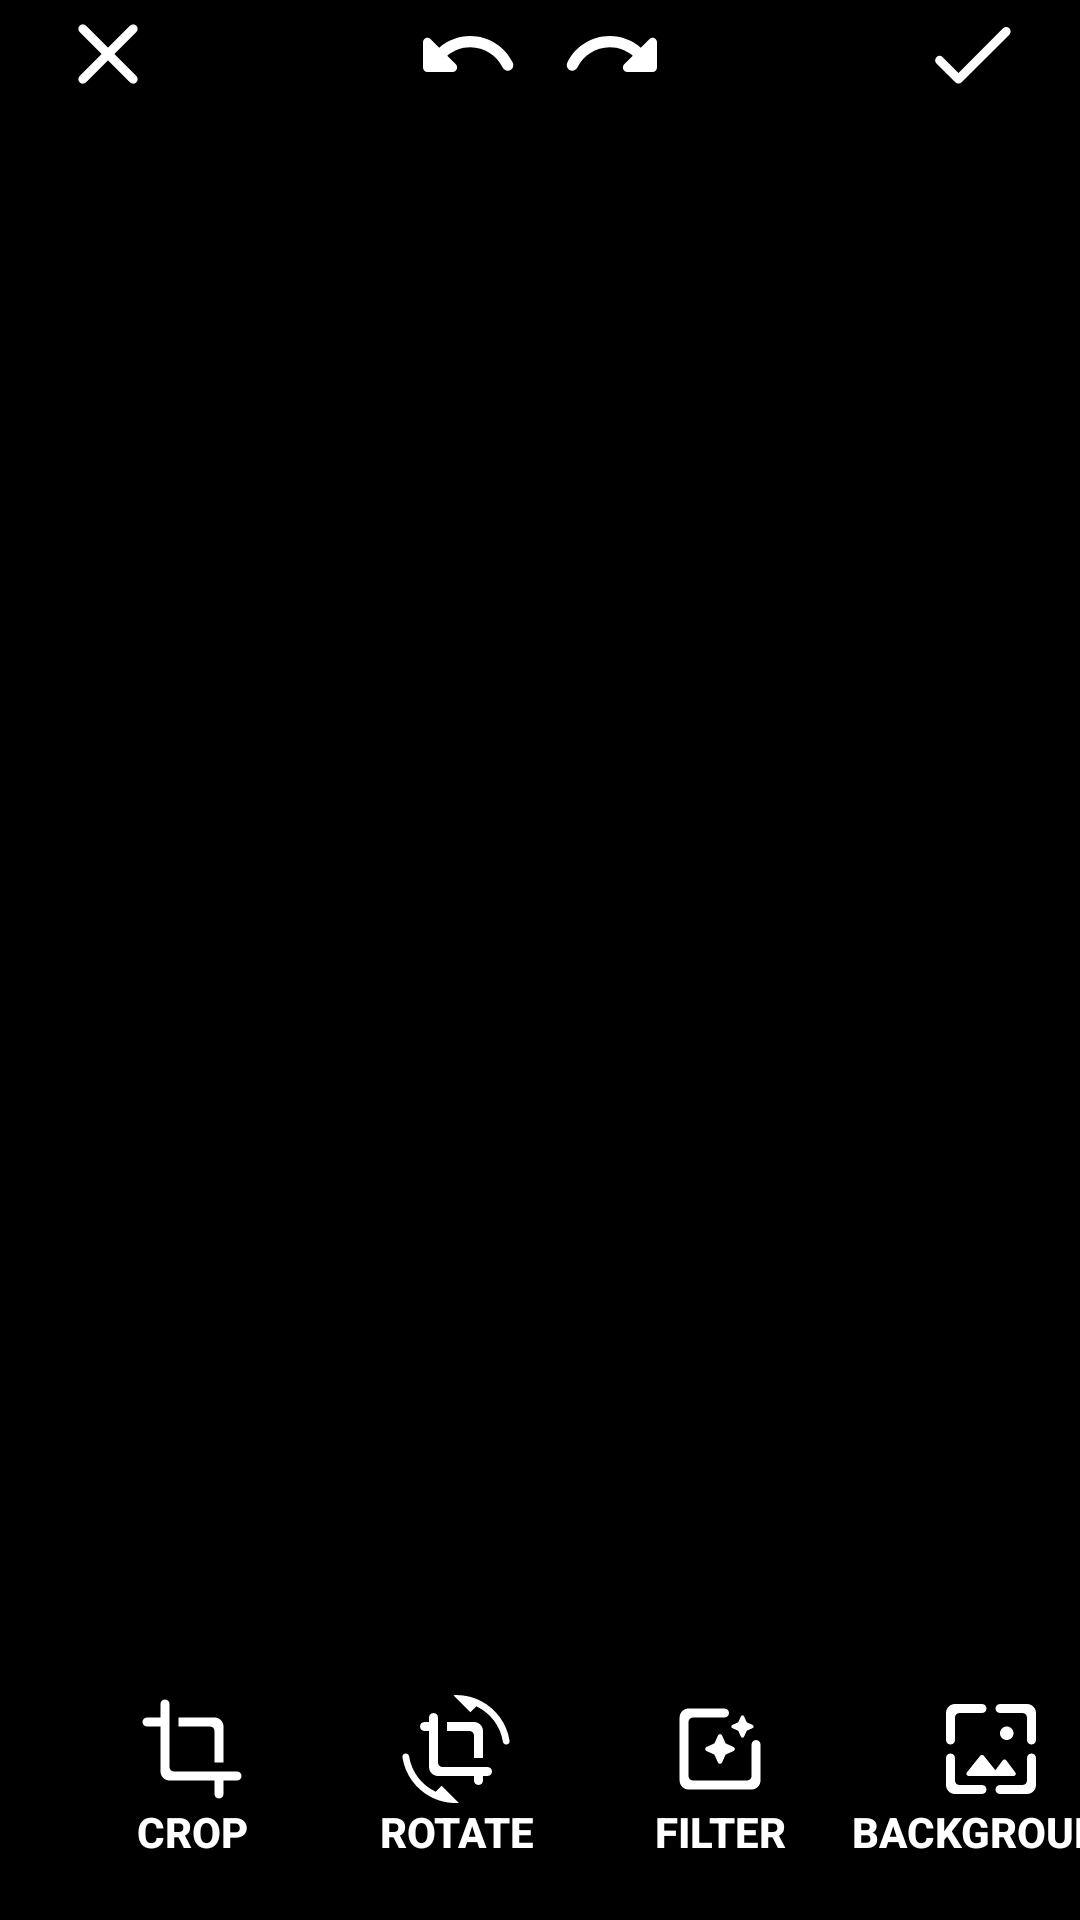

Icons on this 1080*1920 Android screen, each with the point to tap as [x,y]:
close: [108,54]
done: [973,55]
redo: [611,54]
undo: [468,54]
